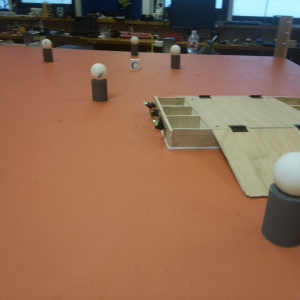obstacle: (265, 153, 300, 242), (90, 63, 108, 101), (39, 39, 56, 63), (169, 45, 180, 70), (131, 36, 139, 56)
side: (139, 94, 193, 157)
slope: (210, 130, 300, 198)
